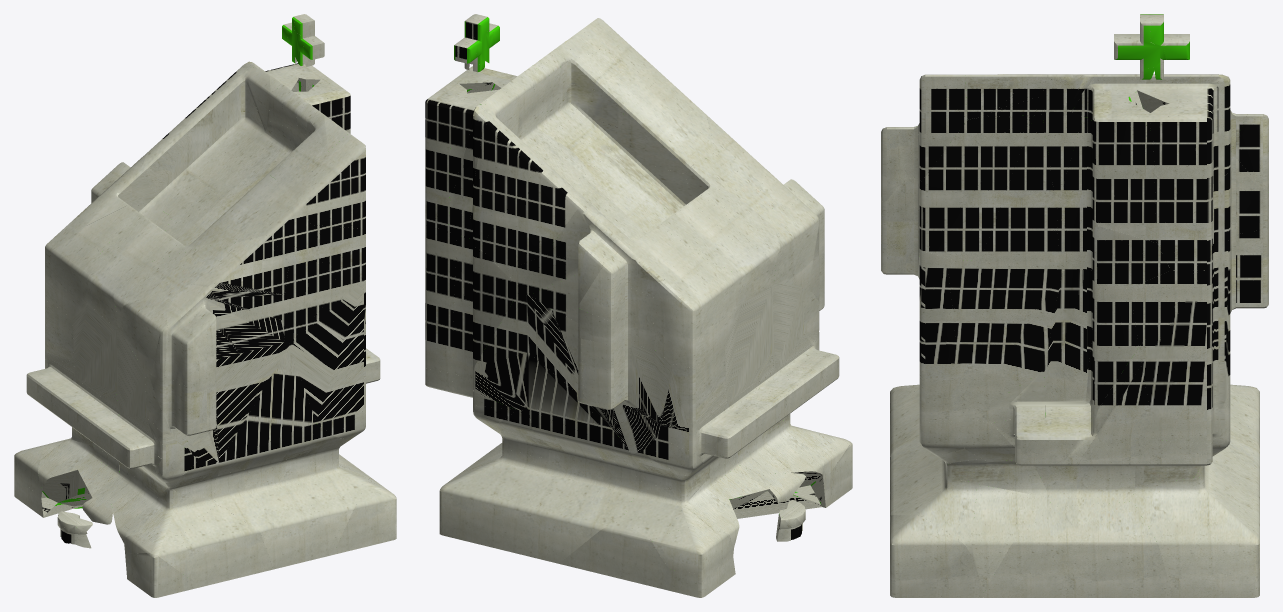
File: AndyHospital_Broken.fbx
The picture shows the model from 3 angles, left to right: view 1: azimuth 30°, elevation 25°; view 2: azimuth 150°, elevation 25°; view 3: azimuth 270°, elevation 25°; orthographic projection. The views are drawn at different scales.
Parts seen in each view (by area): view 1: Cyber Skyscraper.014_cell.074, Cyber Skyscraper.014_cell.110, Cyber Skyscraper.014_cell.066, Cyber Skyscraper.014_cell.079, Cyber Skyscraper.014_cell.165, Cyber Skyscraper.014_cell.119, Cyber Skyscraper.014_cell.145, Cyber Skyscraper.014_cell.108, Cyber Skyscraper.014_cell.022, Cyber Skyscraper.014_cell.096, Cyber Skyscraper.014_cell.094, Cyber Skyscraper.014_cell.007 (+52 smaller); view 2: Cyber Skyscraper.014_cell.019, Cyber Skyscraper.014_cell.094, Cyber Skyscraper.014_cell.165, Cyber Skyscraper.014_cell.166, Cyber Skyscraper.014_cell.079, Cyber Skyscraper.014_cell.001, Cyber Skyscraper.014_cell.156, Cyber Skyscraper.014_cell.007, Cyber Skyscraper.014_cell.069, Cyber Skyscraper.014_cell.164, Cyber Skyscraper.014_cell.017, Cyber Skyscraper.014_cell.004 (+58 smaller); view 3: Cyber Skyscraper.014_cell.140, Cyber Skyscraper.014_cell.019, Cyber Skyscraper.014_cell.181, Cyber Skyscraper.014_cell.084, Cyber Skyscraper.014_cell.100, Cyber Skyscraper.014_cell.137, Cyber Skyscraper.014_cell.177, Cyber Skyscraper.014_cell.163, Cyber Skyscraper.014_cell.133, Cyber Skyscraper.014_cell.074, Cyber Skyscraper.014_cell.026, Cyber Skyscraper.014_cell.056 (+42 smaller).
Boxes of the visible parts, x1,y1,x2,y2 form: Cyber Skyscraper.014_cell.074: [289, 279, 365, 421]; Cyber Skyscraper.014_cell.110: [214, 457, 317, 569]; Cyber Skyscraper.014_cell.066: [218, 348, 316, 475]; Cyber Skyscraper.014_cell.079: [141, 114, 230, 217]; Cyber Skyscraper.014_cell.165: [207, 174, 317, 262]; Cyber Skyscraper.014_cell.119: [181, 504, 273, 590]; Cyber Skyscraper.014_cell.145: [196, 342, 289, 462]; Cyber Skyscraper.014_cell.108: [297, 133, 365, 228]; Cyber Skyscraper.014_cell.022: [296, 458, 369, 558]; Cyber Skyscraper.014_cell.096: [184, 235, 288, 294]; Cyber Skyscraper.014_cell.094: [45, 219, 99, 318]; Cyber Skyscraper.014_cell.007: [189, 73, 264, 156]; Cyber Skyscraper.014_cell.019: [439, 447, 547, 555]; Cyber Skyscraper.014_cell.094: [653, 262, 740, 367]; Cyber Skyscraper.014_cell.165: [602, 82, 714, 173]; Cyber Skyscraper.014_cell.166: [525, 469, 636, 563]; Cyber Skyscraper.014_cell.079: [479, 162, 604, 271]; Cyber Skyscraper.014_cell.001: [451, 235, 520, 379]; Cyber Skyscraper.014_cell.156: [529, 225, 710, 348]; Cyber Skyscraper.014_cell.007: [467, 118, 545, 248]; Cyber Skyscraper.014_cell.069: [613, 345, 670, 453]; Cyber Skyscraper.014_cell.164: [578, 232, 672, 320]; Cyber Skyscraper.014_cell.017: [473, 289, 528, 410]; Cyber Skyscraper.014_cell.004: [559, 521, 668, 590]; Cyber Skyscraper.014_cell.140: [947, 258, 1062, 418]; Cyber Skyscraper.014_cell.019: [1133, 465, 1259, 597]; Cyber Skyscraper.014_cell.181: [1130, 268, 1212, 443]; Cyber Skyscraper.014_cell.084: [919, 115, 1033, 261]; Cyber Skyscraper.014_cell.100: [983, 542, 1173, 597]; Cyber Skyscraper.014_cell.137: [1153, 102, 1212, 270]; Cyber Skyscraper.014_cell.177: [1056, 117, 1170, 289]; Cyber Skyscraper.014_cell.163: [1092, 103, 1156, 242]; Cyber Skyscraper.014_cell.133: [980, 114, 1059, 269]; Cyber Skyscraper.014_cell.074: [919, 248, 964, 422]; Cyber Skyscraper.014_cell.026: [890, 515, 983, 597]; Cyber Skyscraper.014_cell.056: [1044, 270, 1092, 421].
Size of the model in its own units: 4738 by 6760 by 4072.
